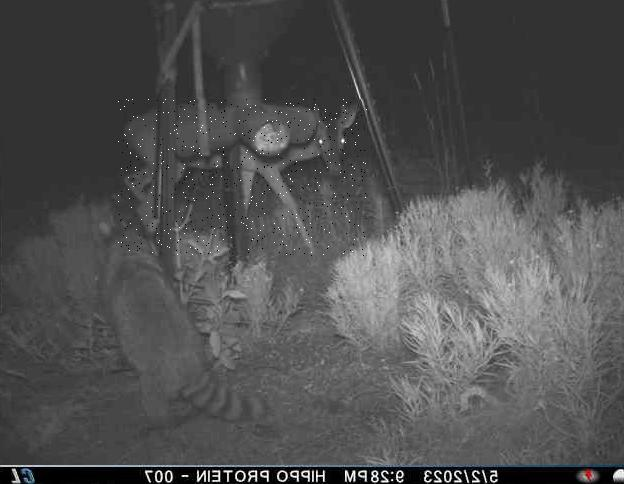Deer: (117, 99, 366, 256)
Raccoon: (91, 209, 277, 435)
